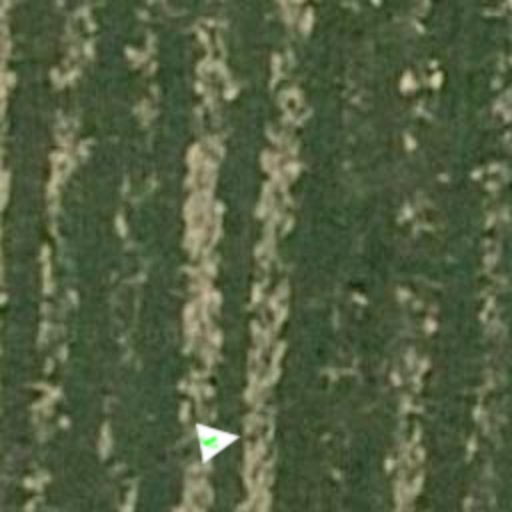triangle: (196, 416, 244, 464)
